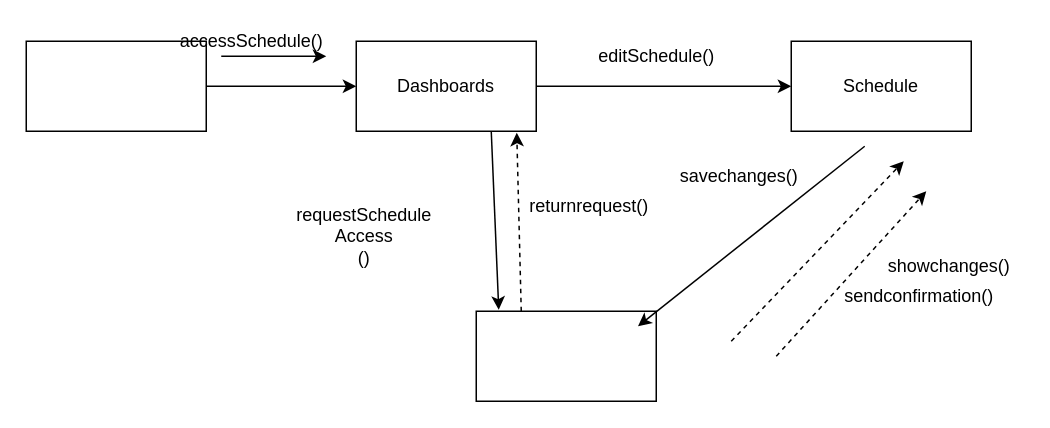
Image size: 1050x428. Some labels were removed from this diagram. Here are the shapes that lost their labels. From the top down, the centre of each, then its label:
[115,85]: Customer Page
[565,355]: Server
